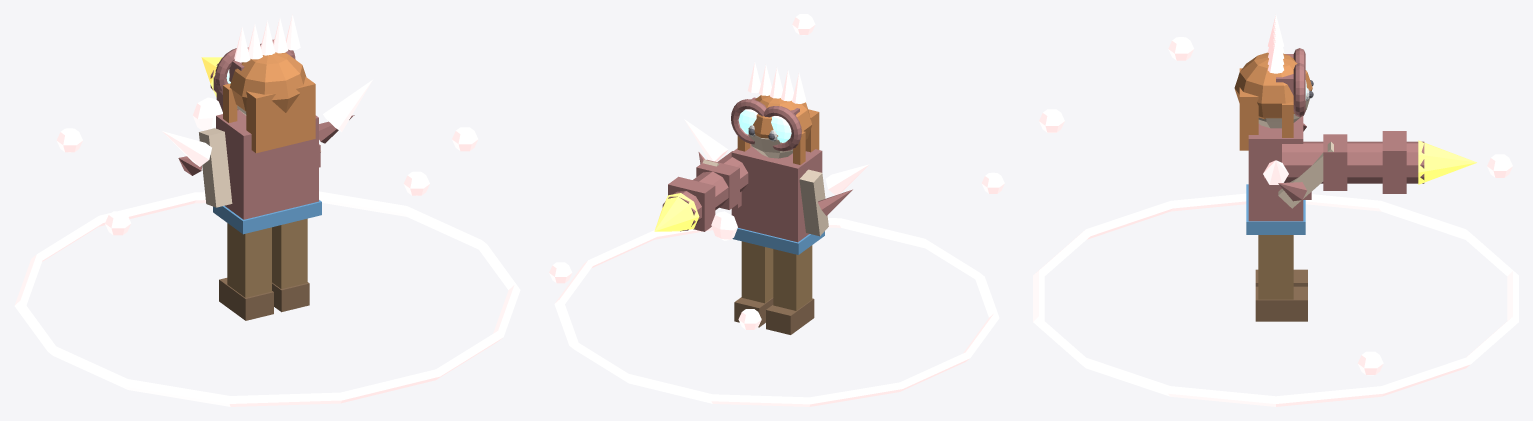
Rendered from evolved_firecracker.glb.
3 views of the same model, side by side, from view 1: azimuth 30°, elevation 25°; view 2: azimuth 150°, elevation 25°; view 3: azimuth 270°, elevation 25° (orthographic). The views are drawn at different scales.
Visible parts, largest first — view 1: evolved_firecracker; view 2: evolved_firecracker; view 3: evolved_firecracker.
Part boxes in pixels (<box>): evolved_firecracker: <box>14,14,520,406</box>; evolved_firecracker: <box>549,14,1004,406</box>; evolved_firecracker: <box>1033,15,1518,406</box>.
Size of the model in its own units: 4.62 by 2.87 by 4.5.
